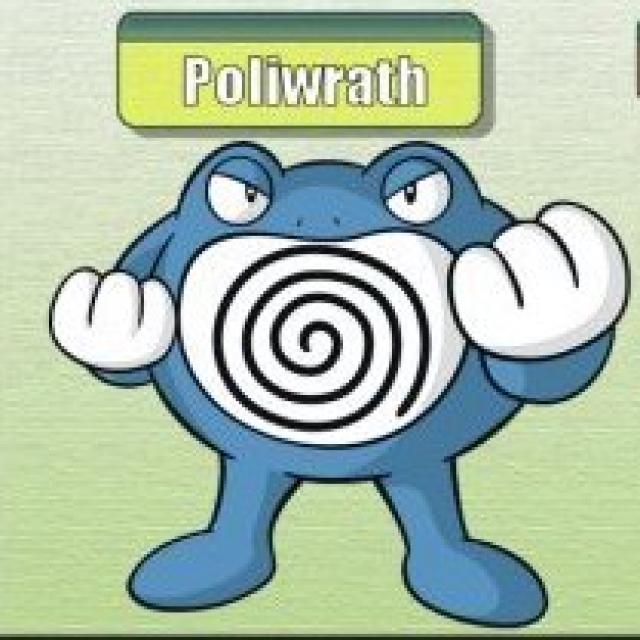Poliwrath: (124, 141, 574, 584)
